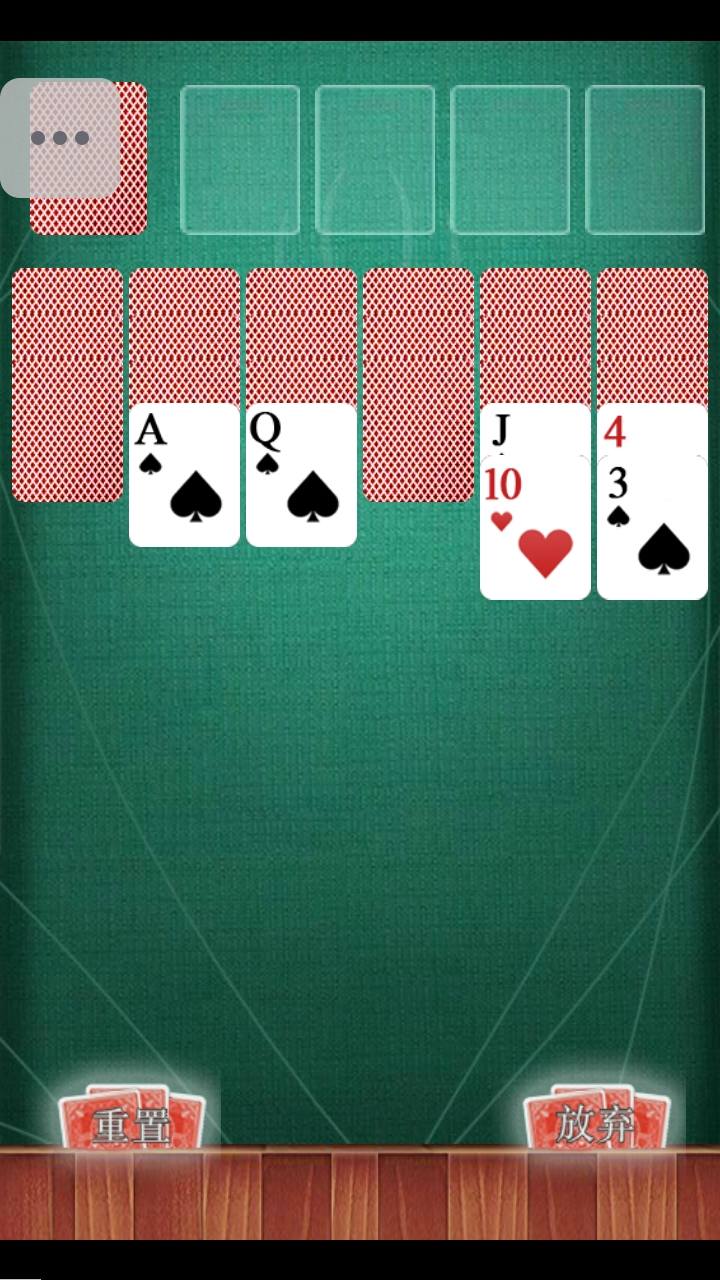button: (504, 1073, 690, 1154), (56, 1075, 218, 1153)
